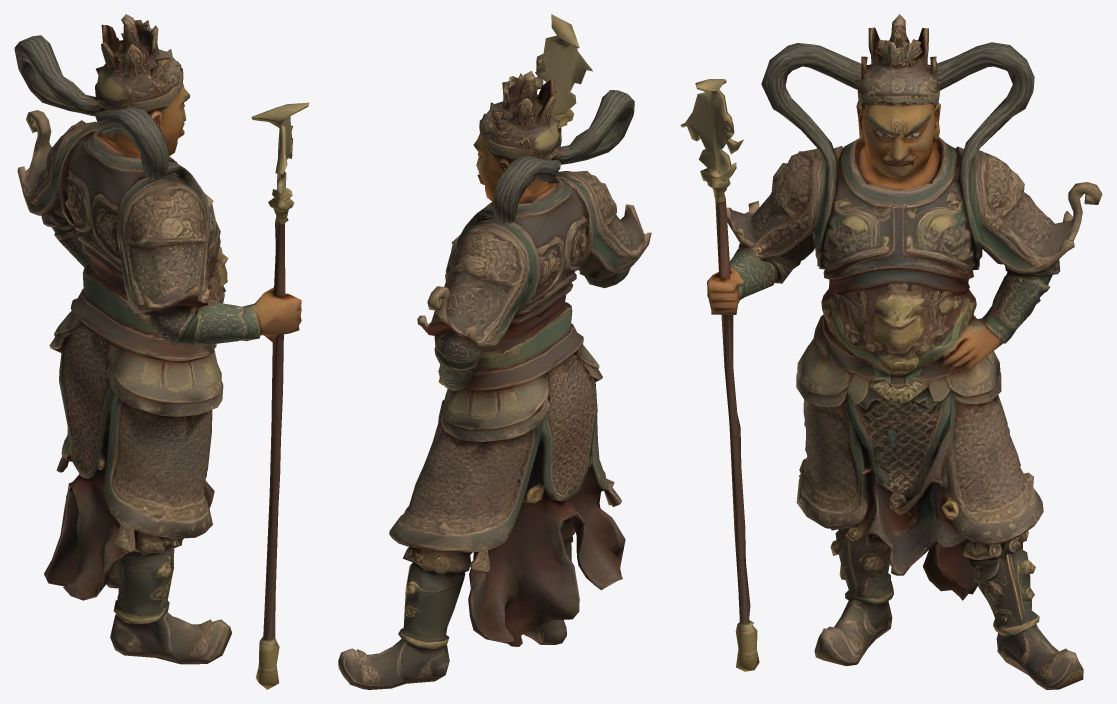
Rendered from weituo.glb.
3 renders of one model, left to right at view 1: azimuth 30°, elevation 25°; view 2: azimuth 150°, elevation 25°; view 3: azimuth 270°, elevation 25°, orthographic. The views are drawn at different scales.
Visible parts, largest first — view 1: node_96a9c6ac-41d7-4e77-8f9e-36198b4996c2; view 2: node_96a9c6ac-41d7-4e77-8f9e-36198b4996c2; view 3: node_96a9c6ac-41d7-4e77-8f9e-36198b4996c2.
Part boxes in pixels (x1=…): node_96a9c6ac-41d7-4e77-8f9e-36198b4996c2: x1=14, y1=14, x2=309, y2=689; node_96a9c6ac-41d7-4e77-8f9e-36198b4996c2: x1=338, y1=14, x2=651, y2=689; node_96a9c6ac-41d7-4e77-8f9e-36198b4996c2: x1=680, y1=14, x2=1102, y2=689.
Size of the model in its own units: 0.3317 by 1 by 0.6098.
1 material, 1 textured.
